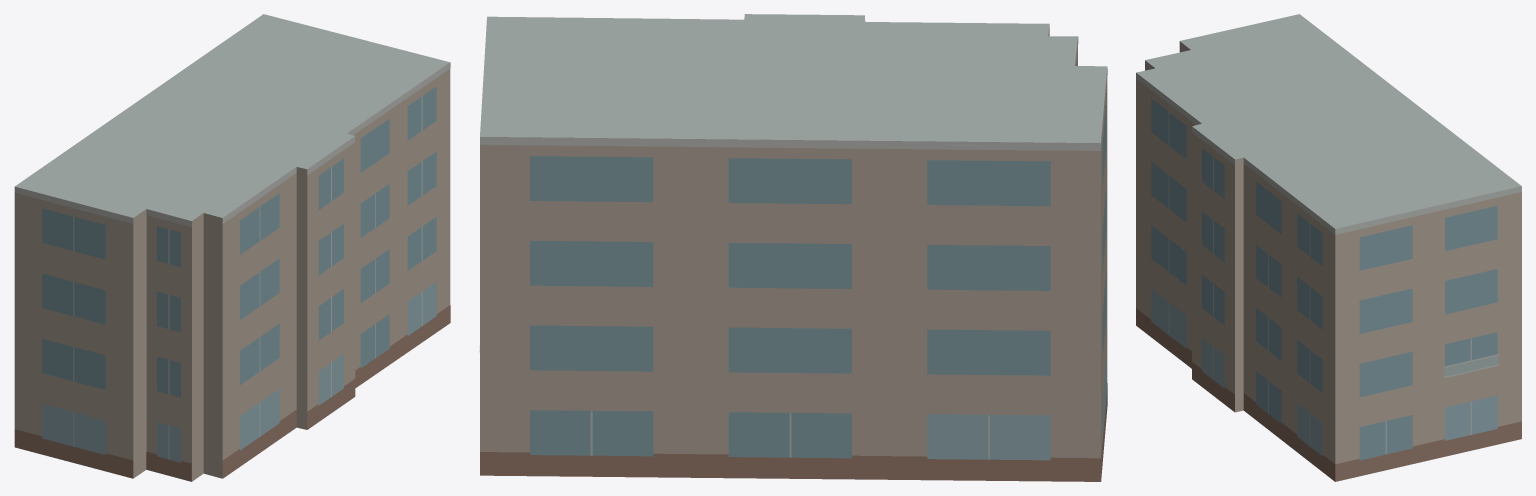
File: survey-upis-32747675.glb
The picture shows the model from 3 angles, left to right: view 1: azimuth 30°, elevation 25°; view 2: azimuth 150°, elevation 25°; view 3: azimuth 270°, elevation 25°; orthographic projection. The views are drawn at different scales.
Visible parts, largest first — view 1: survey-upis-32747675.tmp; view 2: survey-upis-32747675.tmp; view 3: survey-upis-32747675.tmp.
Part boxes in pixels (x1,y1,x2,y2): survey-upis-32747675.tmp: [14, 14, 450, 481]; survey-upis-32747675.tmp: [479, 14, 1107, 481]; survey-upis-32747675.tmp: [1136, 14, 1521, 481].
Size of the model in its own units: 19.06 by 10.45 by 14.45.
